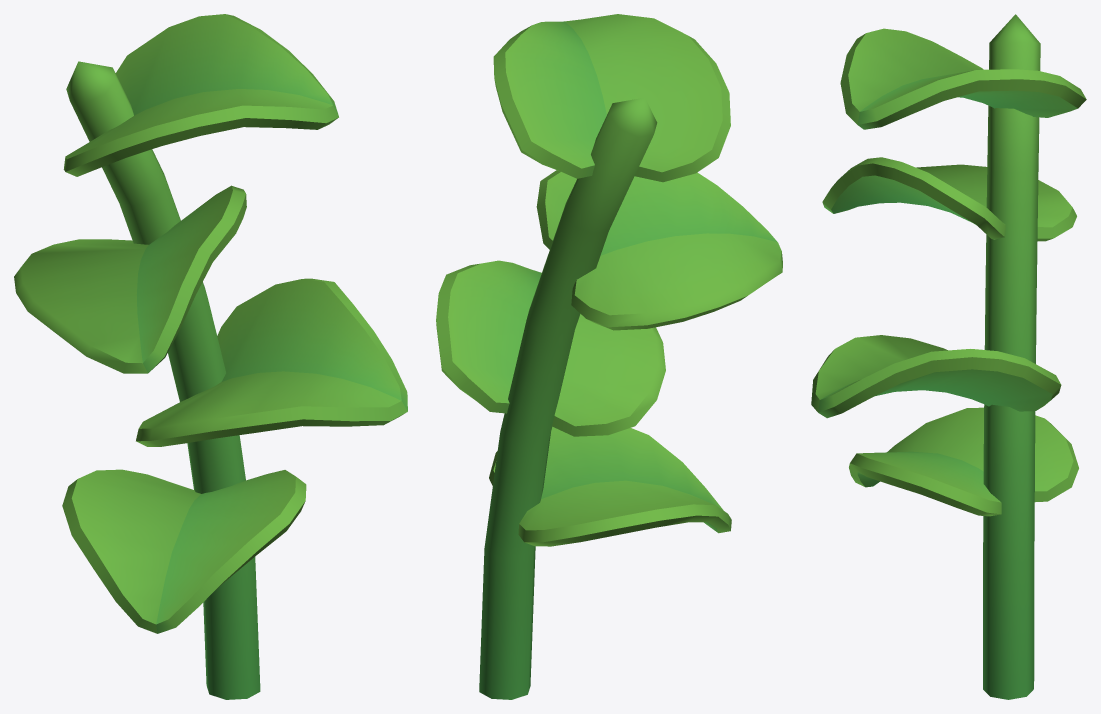
The model's file is plant_pothos_vine.glb.
The picture shows the model from 3 angles, left to right: view 1: azimuth 30°, elevation 25°; view 2: azimuth 150°, elevation 25°; view 3: azimuth 270°, elevation 25°; orthographic projection. The views are drawn at different scales.
Parts seen in each view (by area): view 1: pothos_vine_large_D; view 2: pothos_vine_large_D; view 3: pothos_vine_large_D.
Boxes of the visible parts, left/top/right/bottom form: pothos_vine_large_D: left=14, top=14, right=407, bottom=699; pothos_vine_large_D: left=436, top=14, right=782, bottom=699; pothos_vine_large_D: left=811, top=14, right=1086, bottom=699.
Bounding box in the file's own units: 0.6792 × 1.4 × 0.5645.
Materials: 1 (1 with a texture image).
